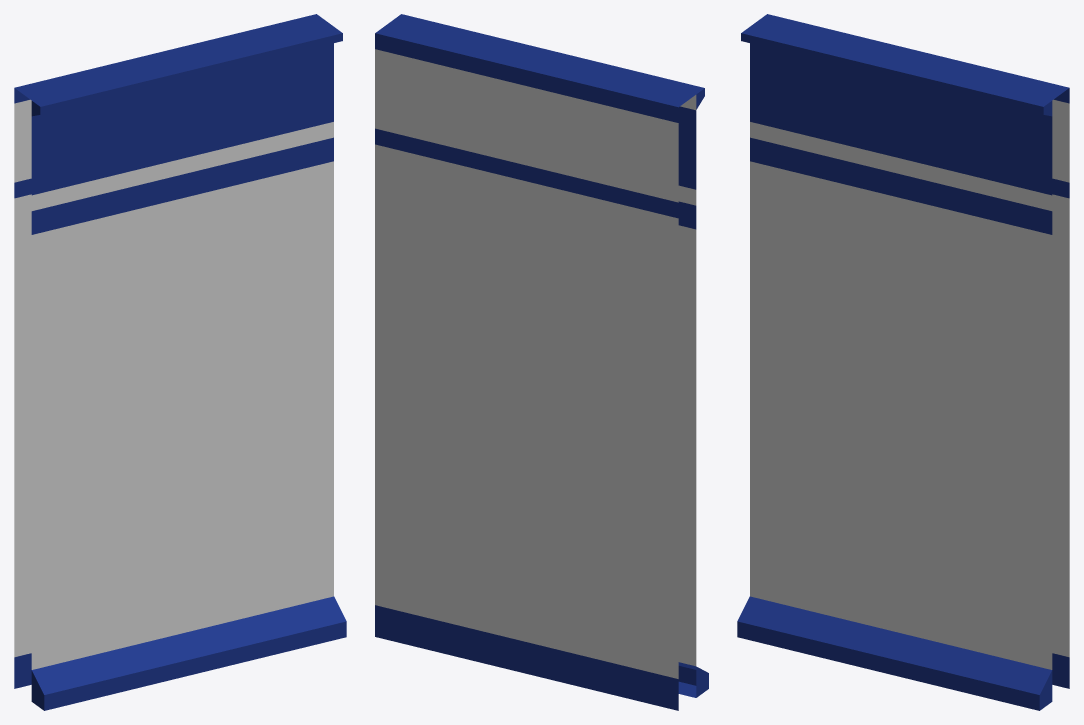
File: wall_2_2x3_8.glb
The picture shows the model from 3 angles, left to right: view 1: azimuth 30°, elevation 25°; view 2: azimuth 150°, elevation 25°; view 3: azimuth 330°, elevation 25°; orthographic projection.
Visible parts, largest first — view 1: Cube; view 2: Cube; view 3: Cube.
Part boxes in pixels (left/top/right/bottom): Cube: left=14, top=14, right=346, bottom=710; Cube: left=375, top=14, right=708, bottom=710; Cube: left=737, top=14, right=1069, bottom=710.
Bounding box in the file's own units: 2 × 3.8 × 0.3439.
